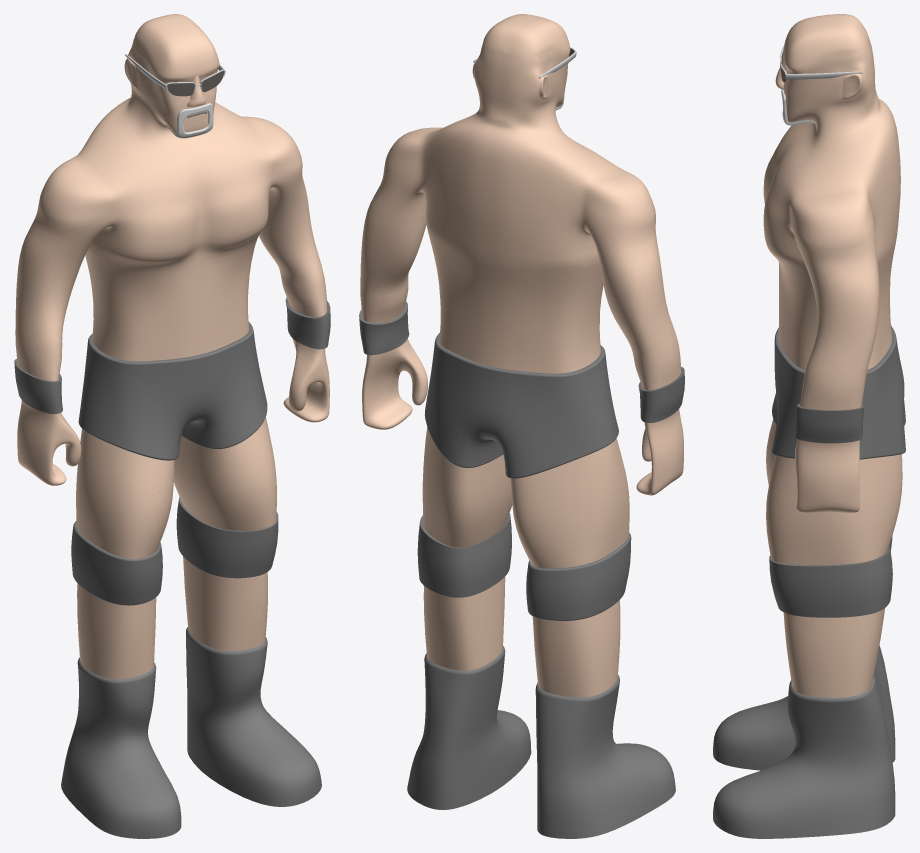
3 views of the same model, side by side, from view 1: azimuth 30°, elevation 25°; view 2: azimuth 150°, elevation 25°; view 3: azimuth 270°, elevation 25° (orthographic). The views are drawn at different scales.
Parts seen in each view (by area): view 1: 014_theSCSO; view 2: 014_theSCSO; view 3: 014_theSCSO.
Part boxes in pixels (x1=…): 014_theSCSO: x1=14, y1=14, x2=330, y2=838; 014_theSCSO: x1=359, y1=14, x2=684, y2=838; 014_theSCSO: x1=713, y1=14, x2=905, y2=838.
Bounding box in the file's own units: 0.0949 × 0.227 × 0.0518.
